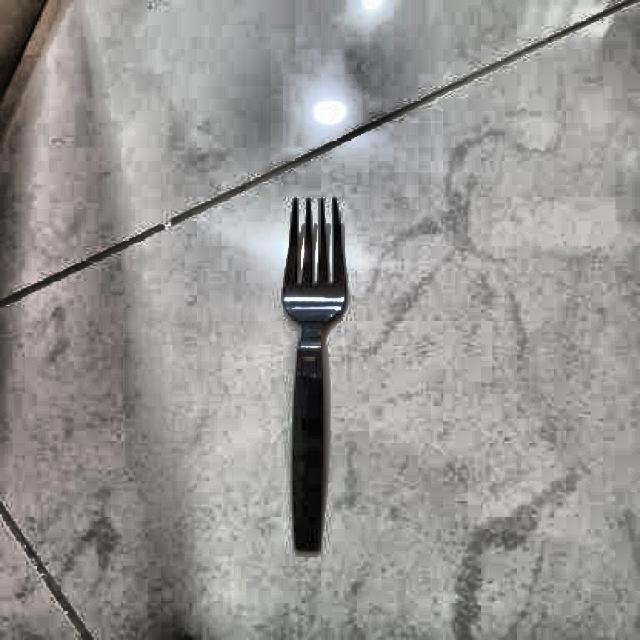plastic utensil: (276, 191, 352, 560)
